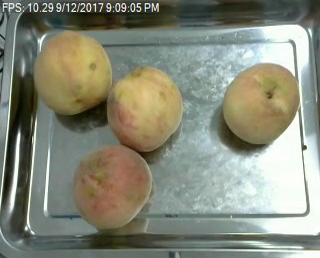Peach: (72, 143, 152, 231), (34, 30, 114, 115), (107, 64, 184, 150), (222, 63, 300, 145)
